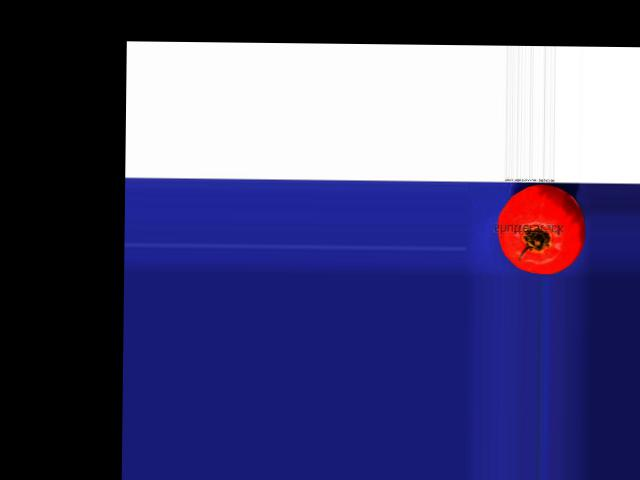tomato: (497, 185, 586, 274)
